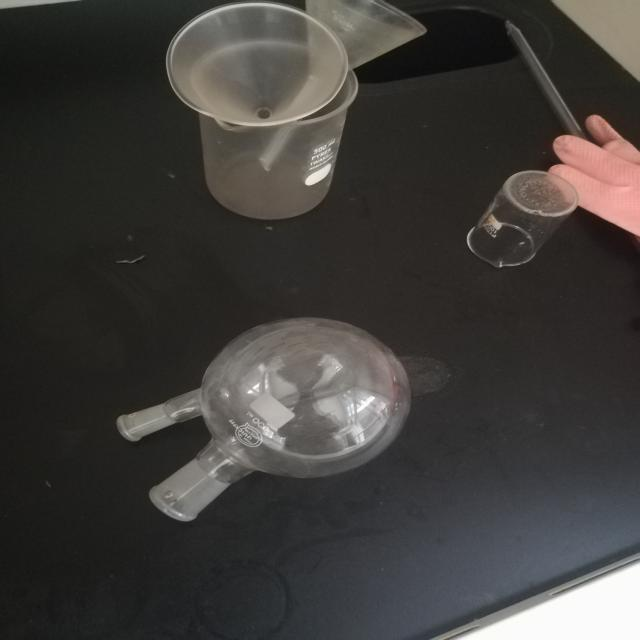Round_Bottom_Flask_Borosilicate_Glass_2_Neck: (80, 297, 478, 558)
